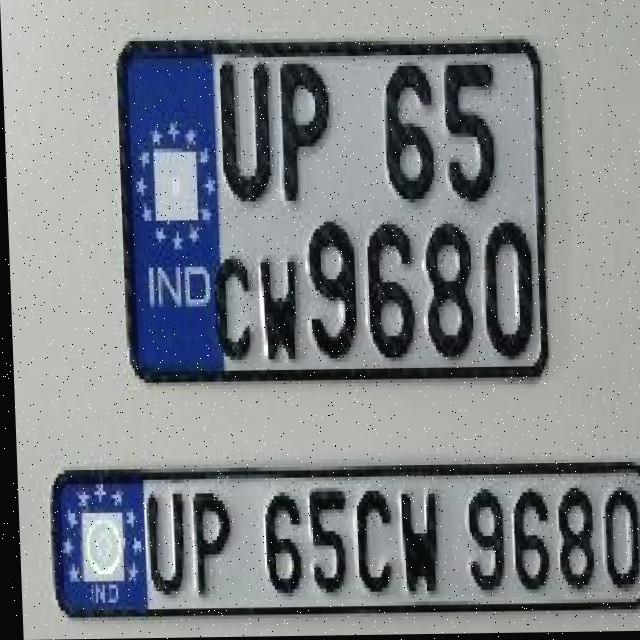plate: (114, 36, 546, 385), (47, 462, 640, 619)
